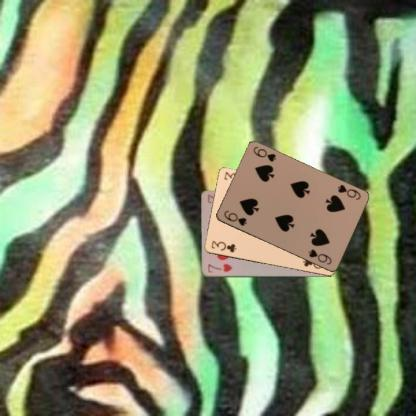3c: (208, 238, 238, 254)
6s: (334, 182, 362, 201), (221, 208, 248, 227)
7h: (205, 261, 234, 274)
